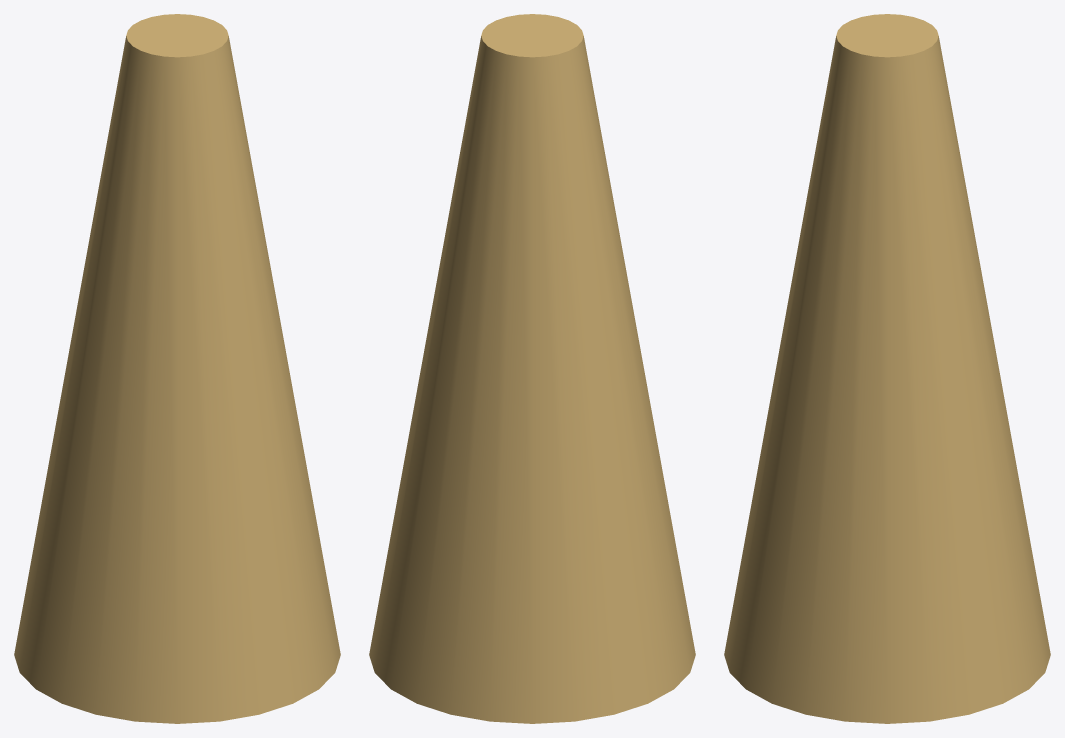
The model's file is jp_bedroom_pencil_wood.glb.
The picture shows the model from 3 angles, left to right: view 1: azimuth 30°, elevation 25°; view 2: azimuth 150°, elevation 25°; view 3: azimuth 270°, elevation 25°; orthographic projection.
Parts seen in each view (by area): view 1: pencil_wood; view 2: pencil_wood; view 3: pencil_wood.
Part boxes in pixels (x1=…): pencil_wood: x1=14, y1=14, x2=340, y2=723; pencil_wood: x1=369, y1=14, x2=695, y2=723; pencil_wood: x1=724, y1=14, x2=1050, y2=723.
Bounding box in the file's own units: 0.00765 × 0.016 × 0.00765.
